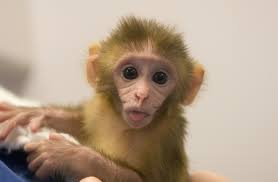monkey: (67, 19, 224, 182)
